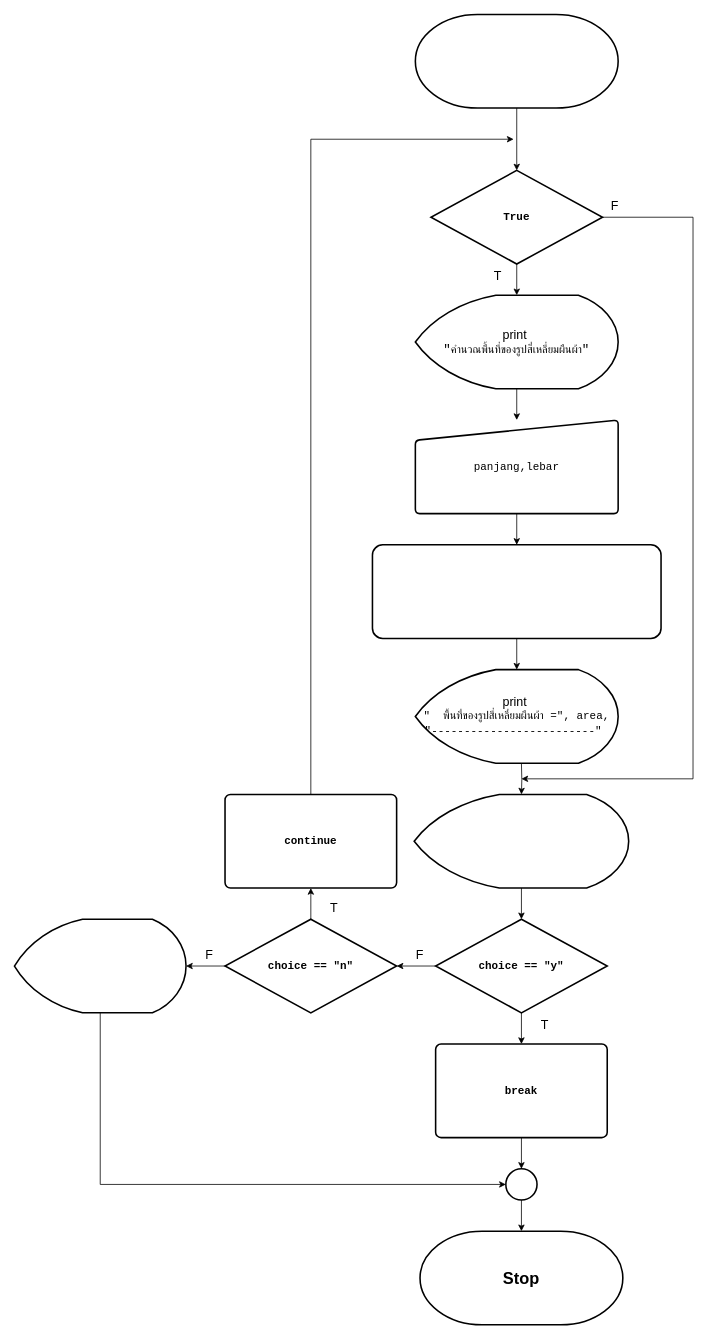
This 713x1338 diagram has some shape labels left out. The centre of each missing label's shape, as x and y in pixels:
area = panjang*lebar: pixel 516 591
print " ตัวเลือกไม่ถูกต้อง ": pixel 99 965
print " ต้องการคำนวณอีกครั้งหรือไม่ (y/n): ": pixel 521 840
Start: pixel 516 60
